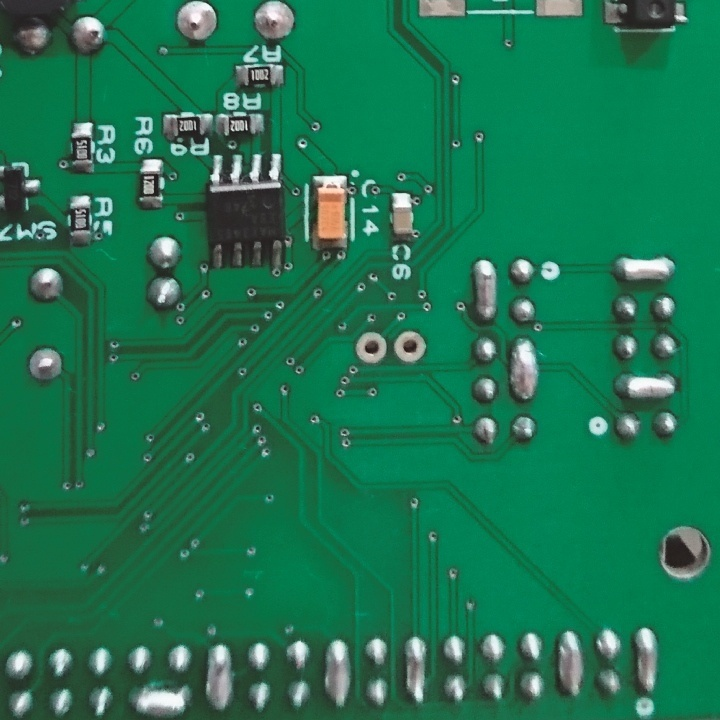F: (249, 1, 299, 43), (176, 1, 220, 46), (27, 345, 65, 388), (354, 329, 389, 366), (392, 329, 427, 366)
P: (613, 249, 678, 291), (507, 329, 541, 407), (127, 682, 194, 720), (467, 255, 501, 326), (320, 638, 353, 709), (612, 368, 682, 401), (630, 626, 660, 697), (204, 642, 233, 710), (552, 627, 580, 697), (401, 632, 427, 706)
